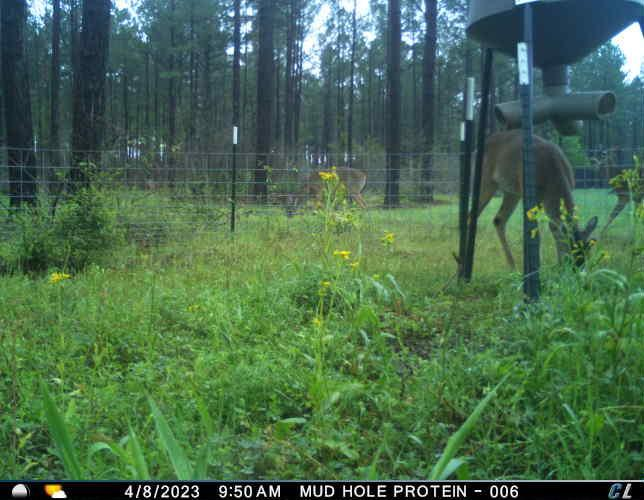Deer: (464, 124, 610, 275), (279, 164, 369, 221)
